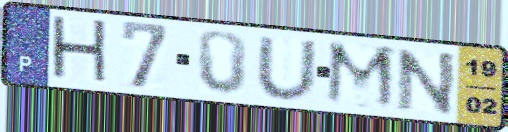0: (194, 29, 250, 98)
7: (119, 18, 171, 93)
H: (49, 13, 112, 89)
M: (322, 38, 399, 113)
N: (394, 47, 459, 117)
U: (253, 35, 319, 103)
